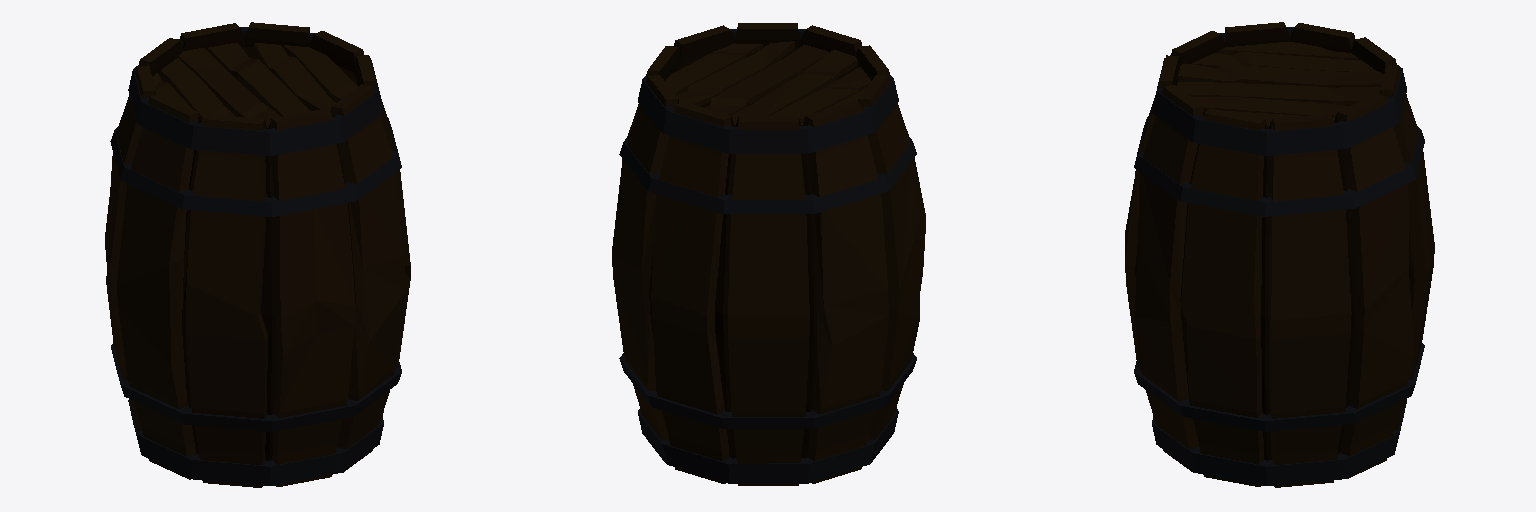
The model's file is Barrel.obj.
The picture shows the model from 3 angles: view 1: azimuth 30°, elevation 25°; view 2: azimuth 150°, elevation 25°; view 3: azimuth 270°, elevation 25°; orthographic projection.
Visible parts, largest first — view 1: Barrel_Cylinder.037; view 2: Barrel_Cylinder.037; view 3: Barrel_Cylinder.037.
Part boxes in pixels (bbox=[...]): Barrel_Cylinder.037: bbox=[105, 22, 410, 487]; Barrel_Cylinder.037: bbox=[612, 23, 925, 485]; Barrel_Cylinder.037: bbox=[1125, 22, 1434, 487].
Bounding box in the file's own units: 0.8314 × 1.07 × 0.8241.